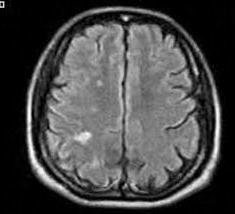Normal_Brain: (27, 1, 235, 214)
